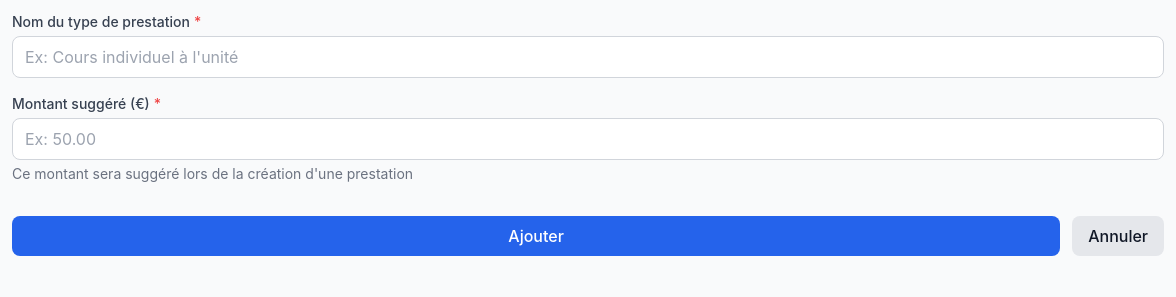
Test: TypePrestationForm › shows error when nom is empty on submit
The image size is (1176, 297).
Type "50" into the number field.
click(588, 139); type("50")  # box [12, 118, 1164, 160]
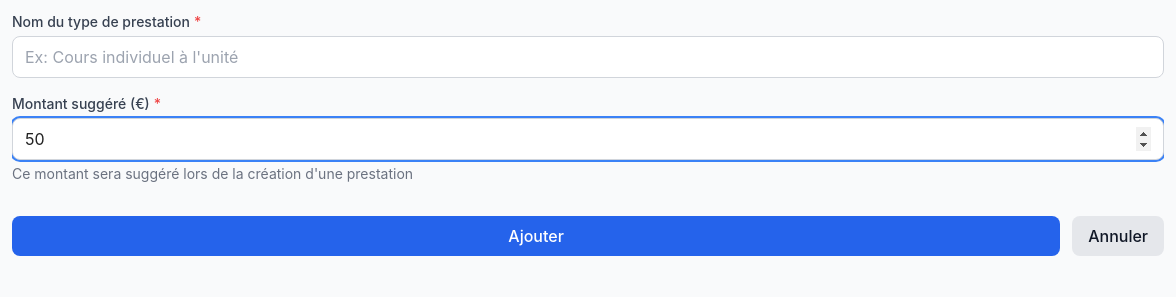
Submit the form
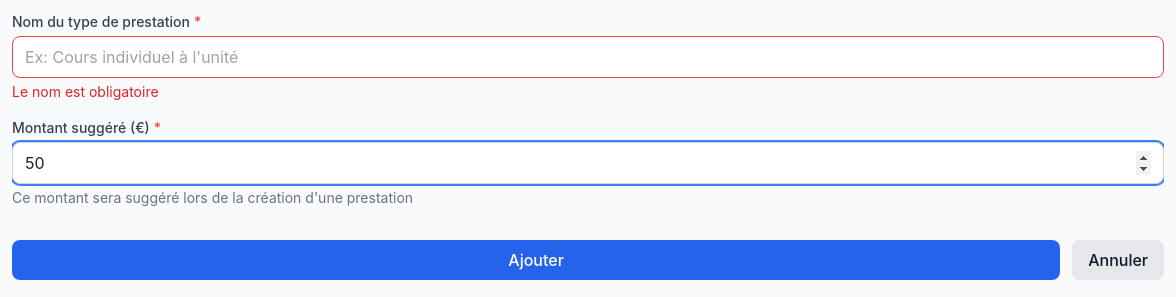
Expected: the text "Le nom est obligatoire" is shown, [12, 83, 159, 100]
